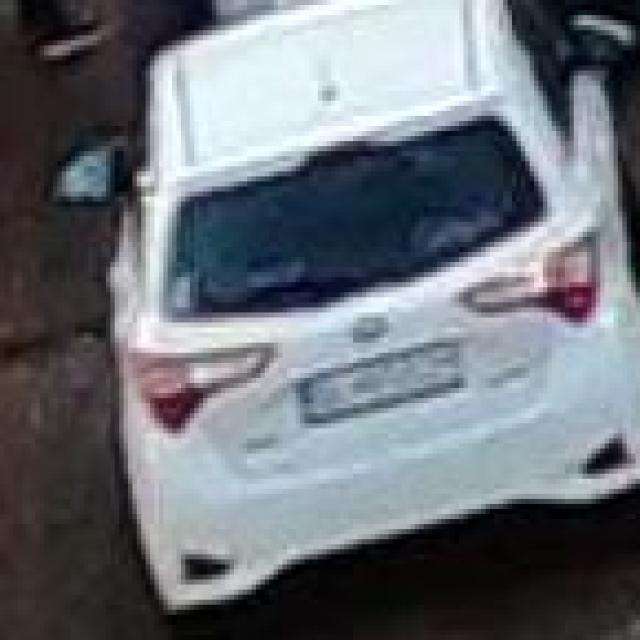Car: (85, 84, 606, 580)
